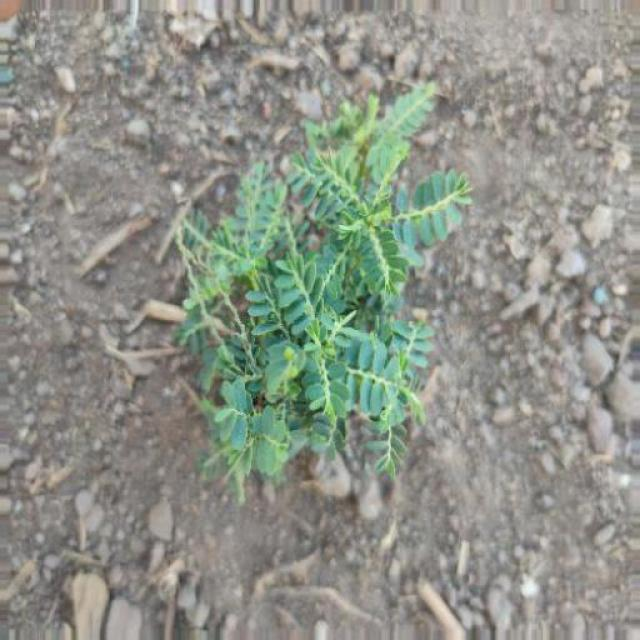weed: (167, 81, 478, 514)
